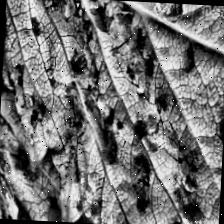Angular Leafspot: (0, 0, 224, 224), (0, 0, 98, 223)
